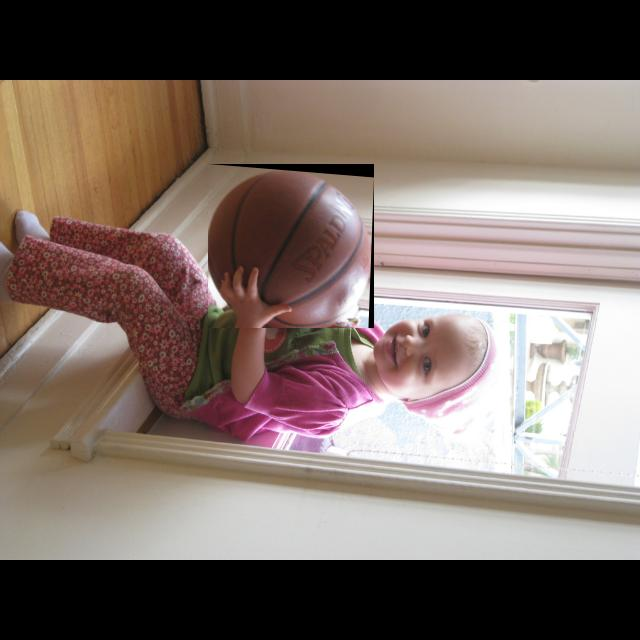Football: (208, 164, 374, 328)
